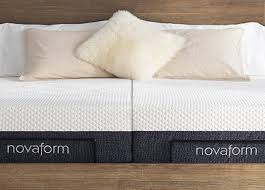bed-matress: (1, 24, 265, 167)
